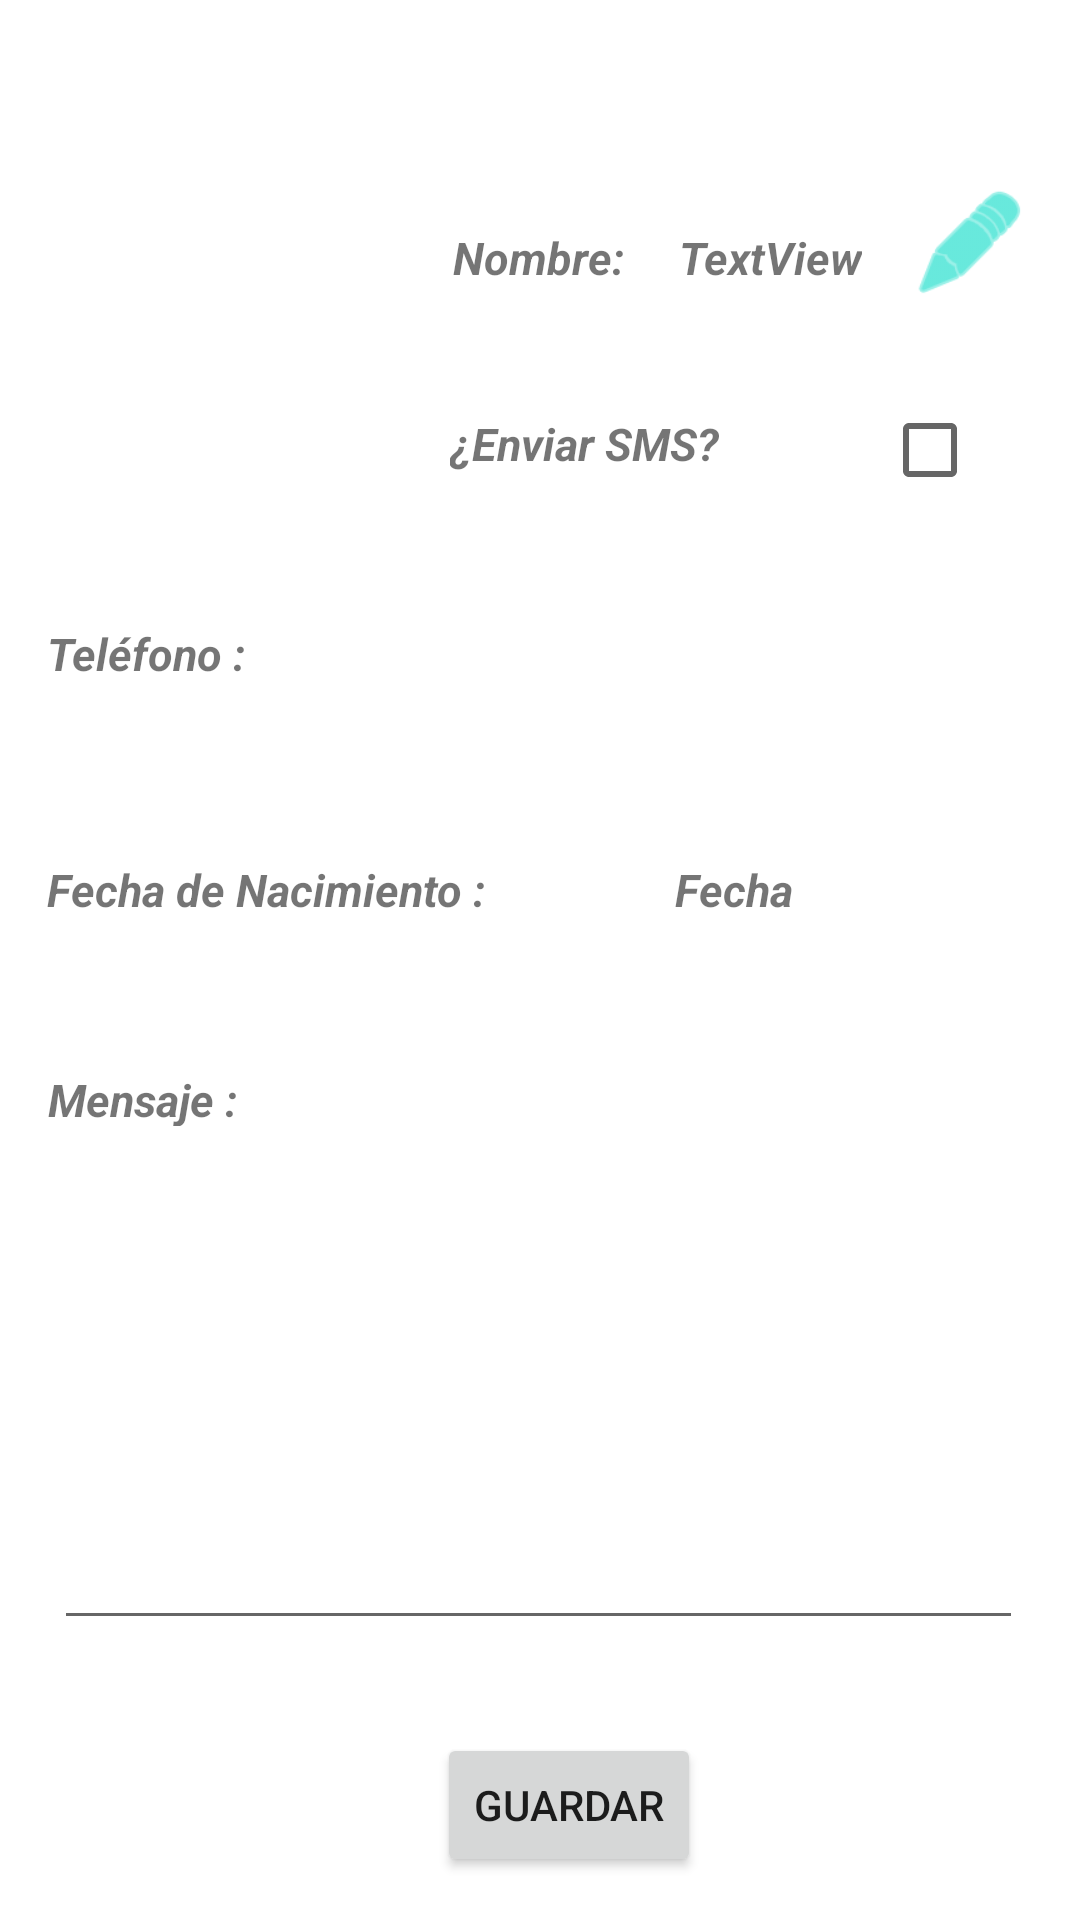

Icon click points for this 1080*1920 phone screenshot, format [x,y]:
edit: [969,242]
